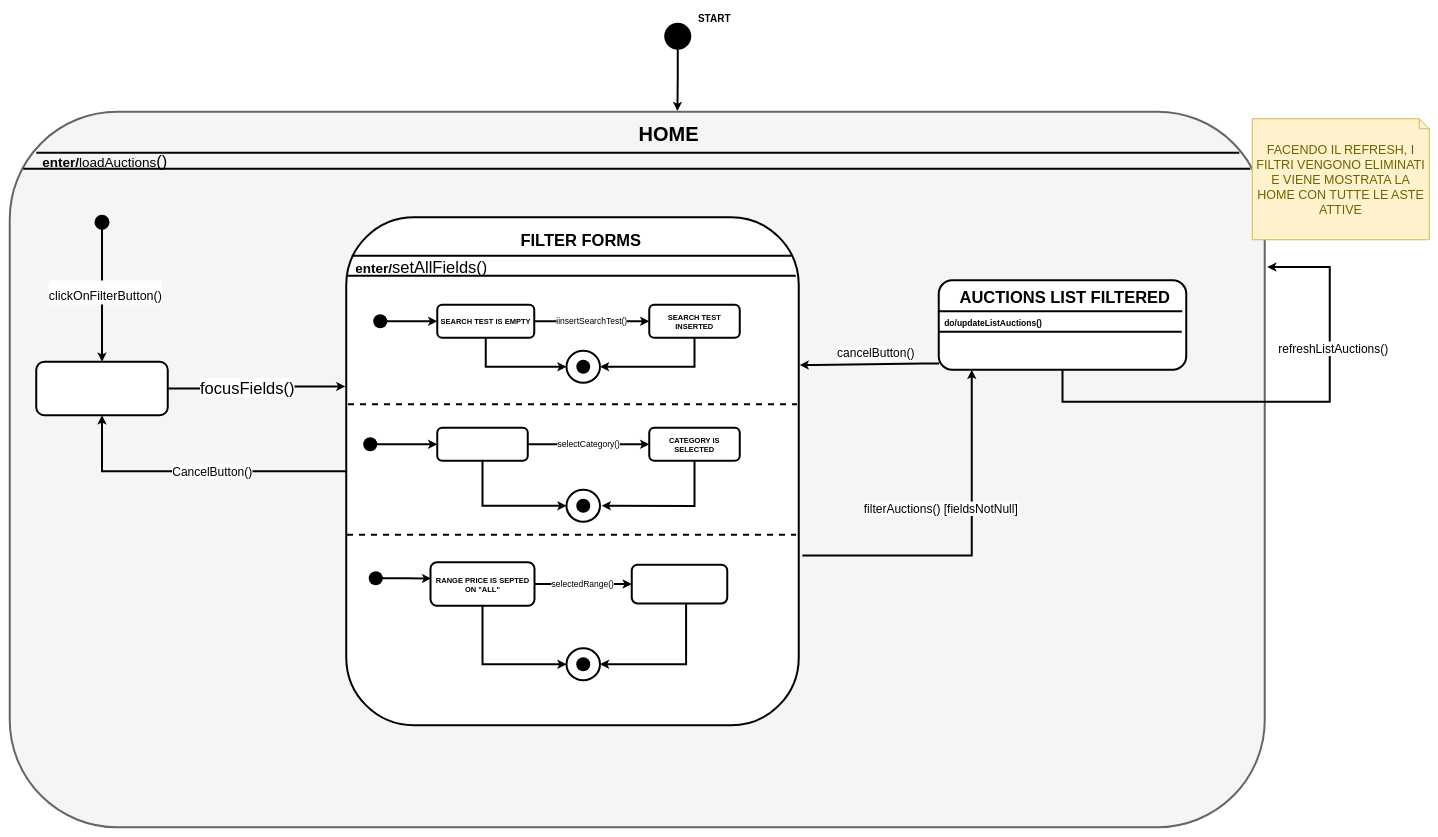
Image size: 1438x837. Some labels were removed from this diagram. The shapes that lost their labels are listed below. From the top down, each one's centre as x and y in pixels, then its label:
the point at 101,388: FILTER VIEW
the point at 482,444: CATEGORY IS SEPTED ON "ALL"
the point at 679,583: RANGE PRICE IS SELECTED
